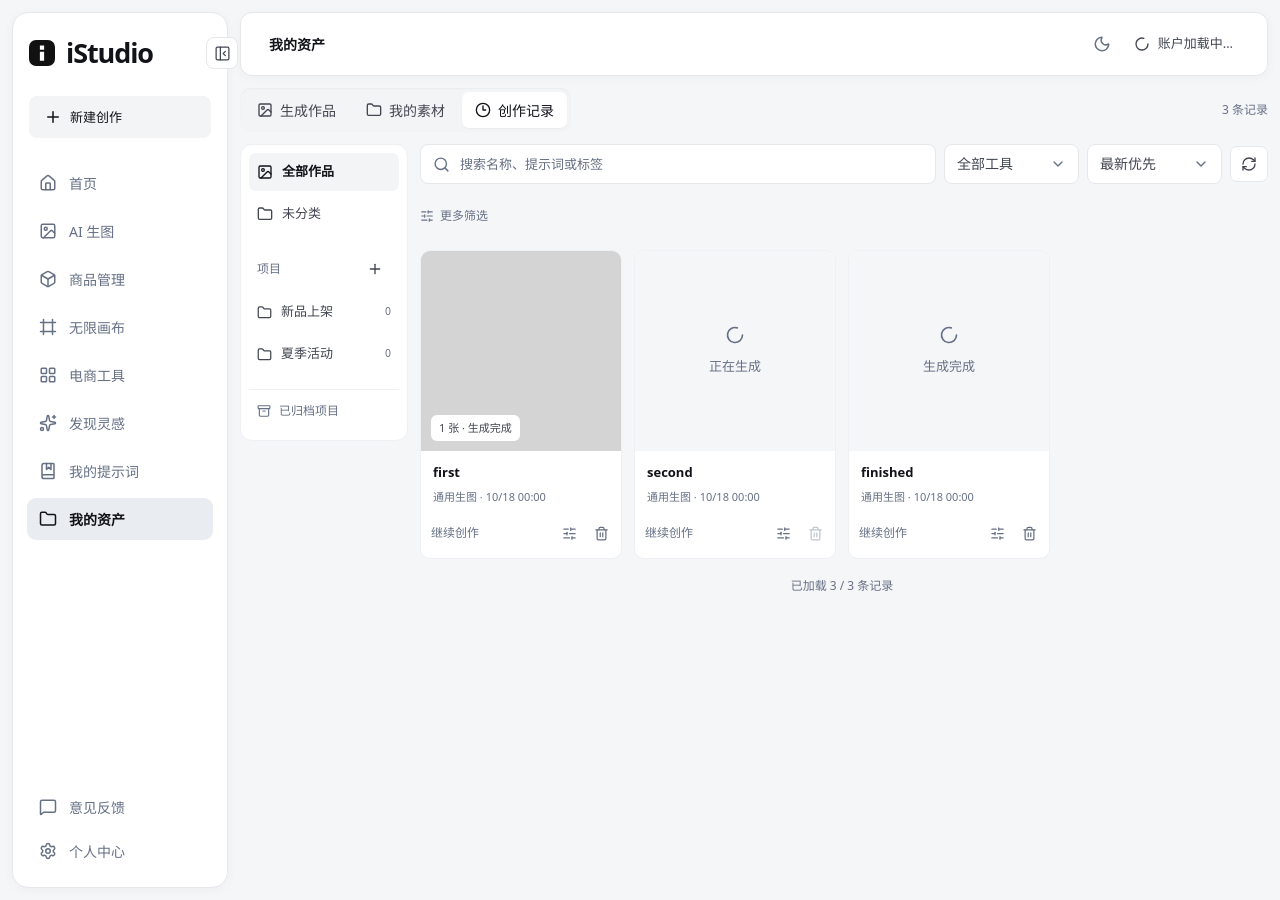
Test: task progress in the asset library › refreshes only active tasks in one request, merges by ID and stops at terminal states
Expected: the element with class "asset-card" shows "正在生成", [709,357,761,375]
Expected: the text with class "library-count" reads "3 条记录", [1222,101,1268,118]
What coordinates should you click on to do the following:
click the button named "查看任务参数" below "second"
I would click on:
 (783, 533)
Its box is [769,518,797,548].
Wait 25000 ms
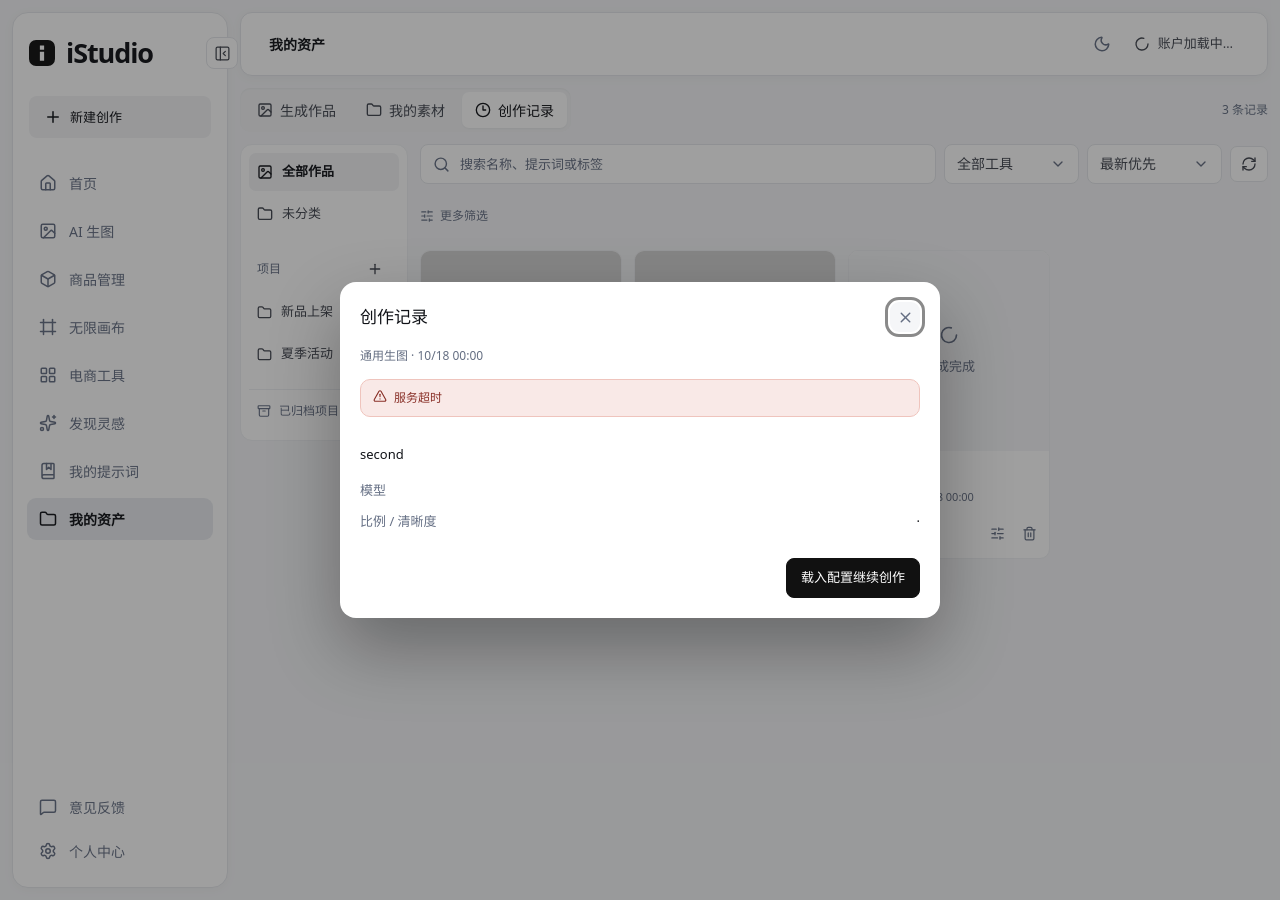
Expected: the message "服务超时" is shown, [360,379,920,417]
